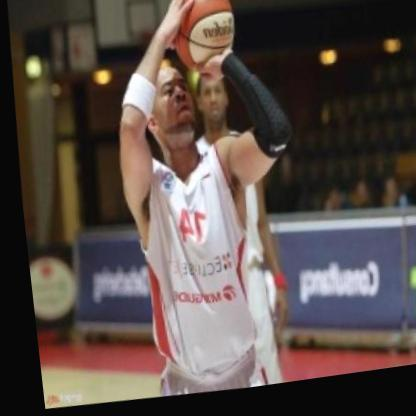basketball: (155, 0, 243, 84)
